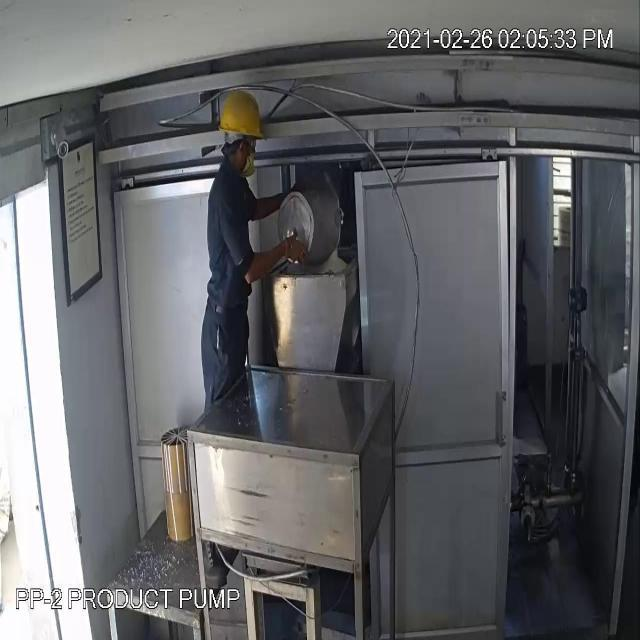hat: (212, 79, 274, 160)
